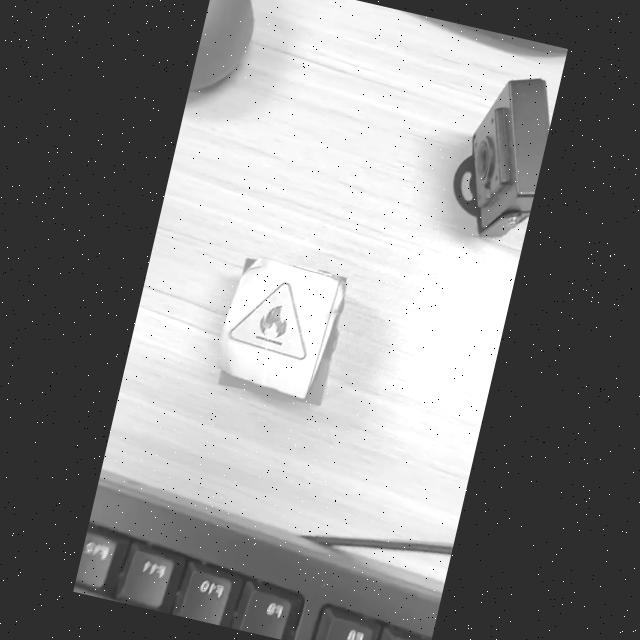Fire: (230, 281, 306, 359)
